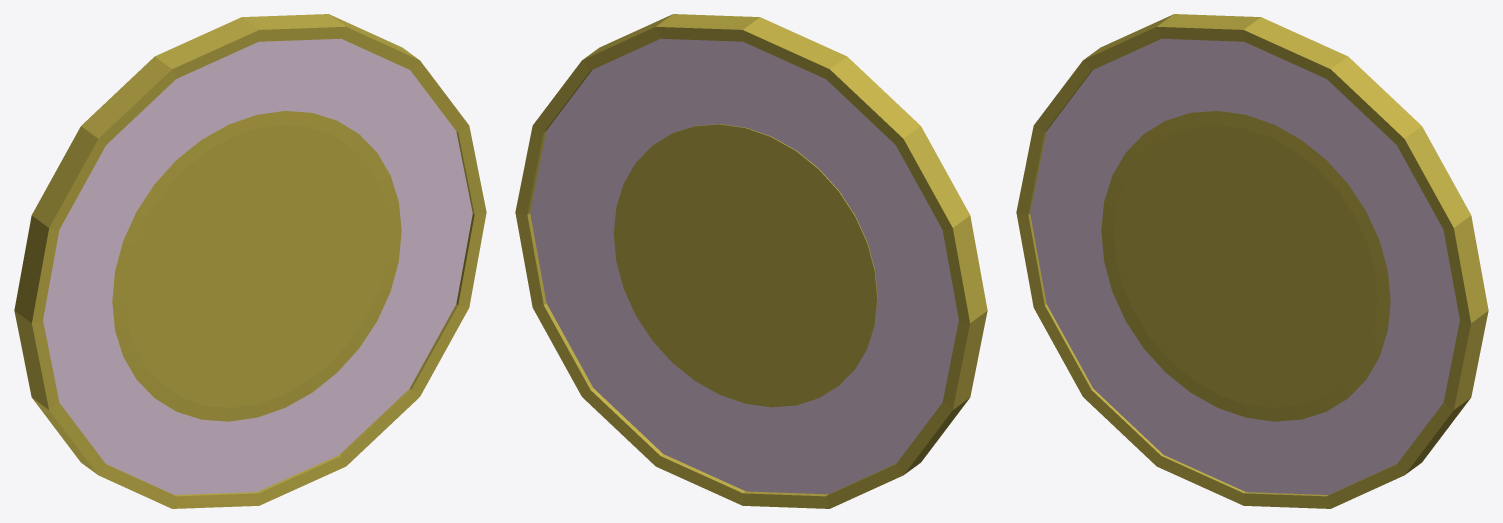
The model's file is Coin.fbx.
3 renders of one model, left to right at view 1: azimuth 30°, elevation 25°; view 2: azimuth 150°, elevation 25°; view 3: azimuth 330°, elevation 25°, orthographic.
Visible parts, largest first — view 1: Cylinder; view 2: Cylinder; view 3: Cylinder.
Boxes of the visible parts, box(x1,y1,x2,y2) form: Cylinder: box(14, 14, 486, 508); Cylinder: box(515, 14, 987, 508); Cylinder: box(1016, 14, 1488, 508).
Bounding box in the file's own units: 150 × 150 × 10.
